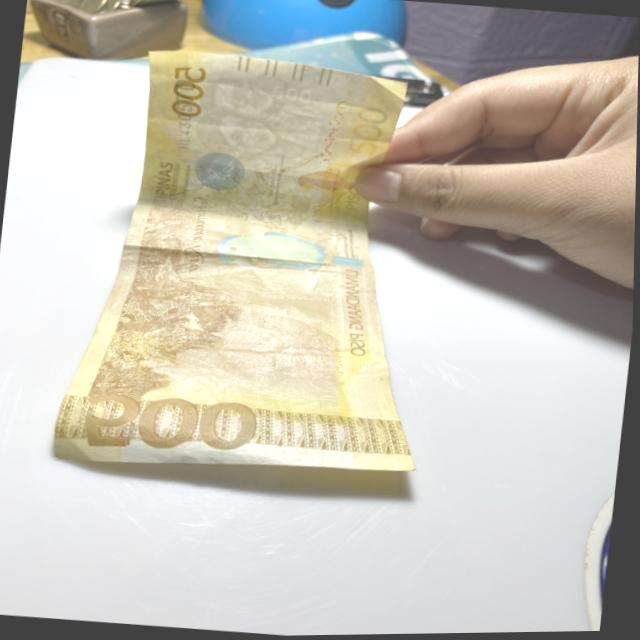500_big_parrot: (209, 225, 366, 292)
500_parrot_watermark: (286, 163, 370, 206)
value_watermark: (266, 82, 315, 106)
watermark: (192, 71, 329, 168)
